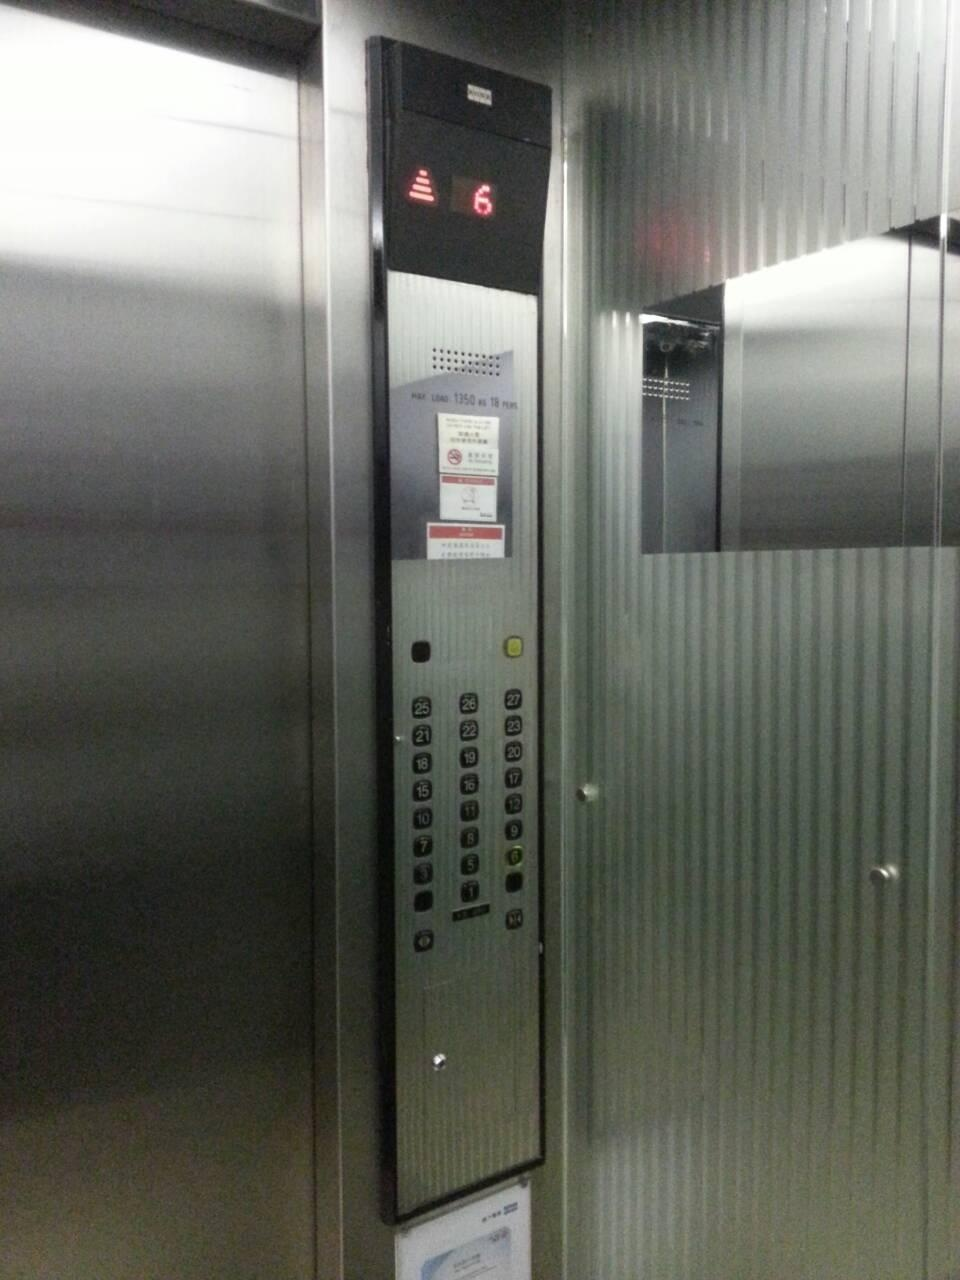1: (458, 878, 481, 903)
10: (411, 804, 435, 830)
11: (458, 797, 481, 822)
12: (502, 791, 524, 815)
15: (411, 777, 434, 802)
16: (458, 771, 480, 796)
17: (502, 765, 524, 789)
18: (411, 750, 434, 774)
19: (458, 744, 480, 769)
20: (503, 738, 525, 762)
21: (410, 722, 434, 747)
22: (458, 717, 480, 742)
23: (502, 713, 524, 737)
25: (410, 693, 434, 719)
26: (458, 690, 480, 714)
27: (502, 686, 524, 710)
3: (411, 859, 435, 885)
5: (458, 850, 481, 875)
6: (503, 844, 525, 868)
7: (411, 833, 435, 858)
8: (458, 824, 481, 849)
9: (502, 817, 524, 841)
alarm: (503, 633, 525, 658)
close: (503, 905, 525, 930)
empty: (411, 887, 435, 913), (503, 869, 525, 894), (410, 639, 432, 663)
led: (401, 160, 536, 225)
open: (412, 927, 436, 953)
